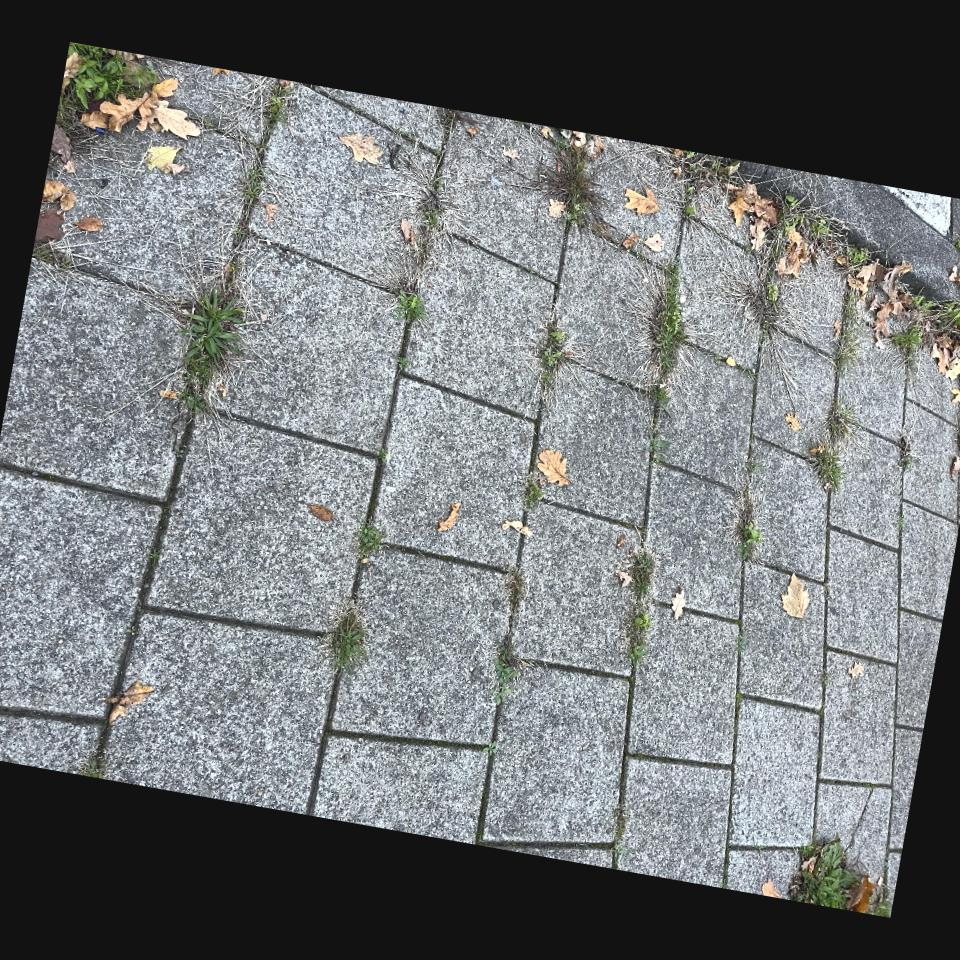weed: (385, 152, 463, 294), (183, 290, 244, 411), (59, 42, 154, 112), (790, 840, 875, 913), (535, 149, 606, 227), (809, 401, 859, 491), (651, 265, 685, 376), (721, 270, 781, 329), (627, 544, 657, 661), (325, 597, 367, 672), (732, 473, 763, 562), (491, 636, 527, 705), (539, 318, 566, 403), (355, 521, 385, 562), (893, 323, 922, 364), (396, 290, 425, 323), (506, 568, 525, 615), (524, 472, 544, 509), (648, 384, 670, 417), (943, 303, 960, 330)
